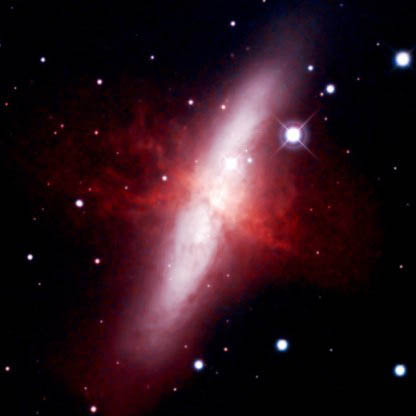Messier 82: (90, 20, 335, 405)
